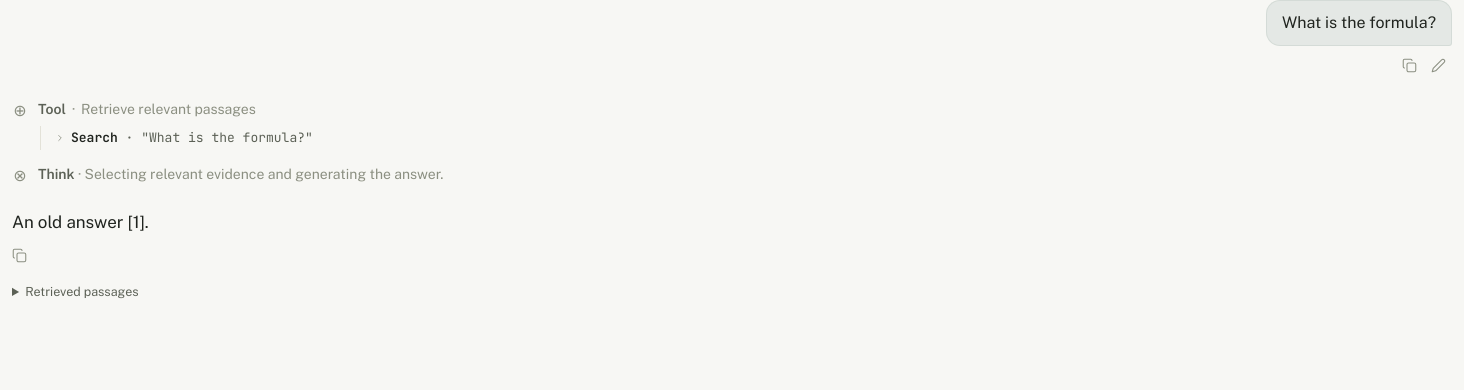
Scenario: TurnCard › keeps legacy answer markers as text and offers the saved retrieved passages
Expected: the text "An old answer [1]." is shown, x1=12 y1=212 x2=149 y2=232
Click the heading "Retrieved passages" at x=82, y=292, box x1=25 y1=284 x2=139 y2=299
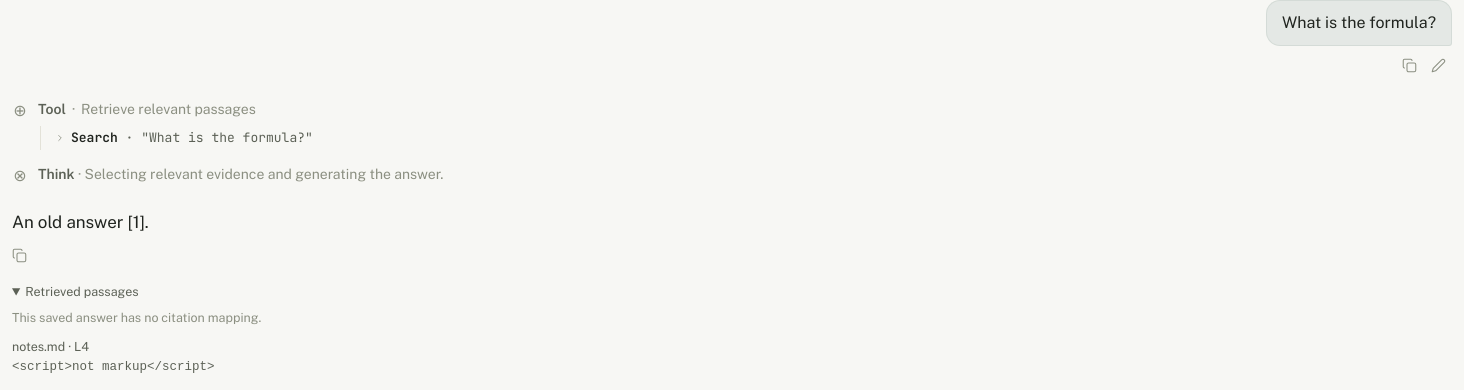
Now the text "This saved answer has no citation mapping." is shown, box x1=12 y1=310 x2=261 y2=325
Now the text "notes.md · L4" is shown, box x1=12 y1=339 x2=89 y2=354
